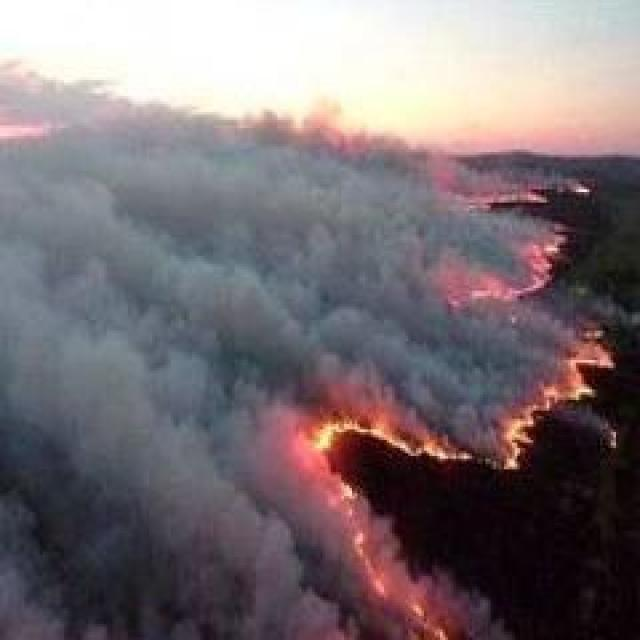Fire: (310, 419, 456, 620), (503, 314, 620, 464), (475, 226, 583, 300)
Smoke: (11, 70, 467, 634)
